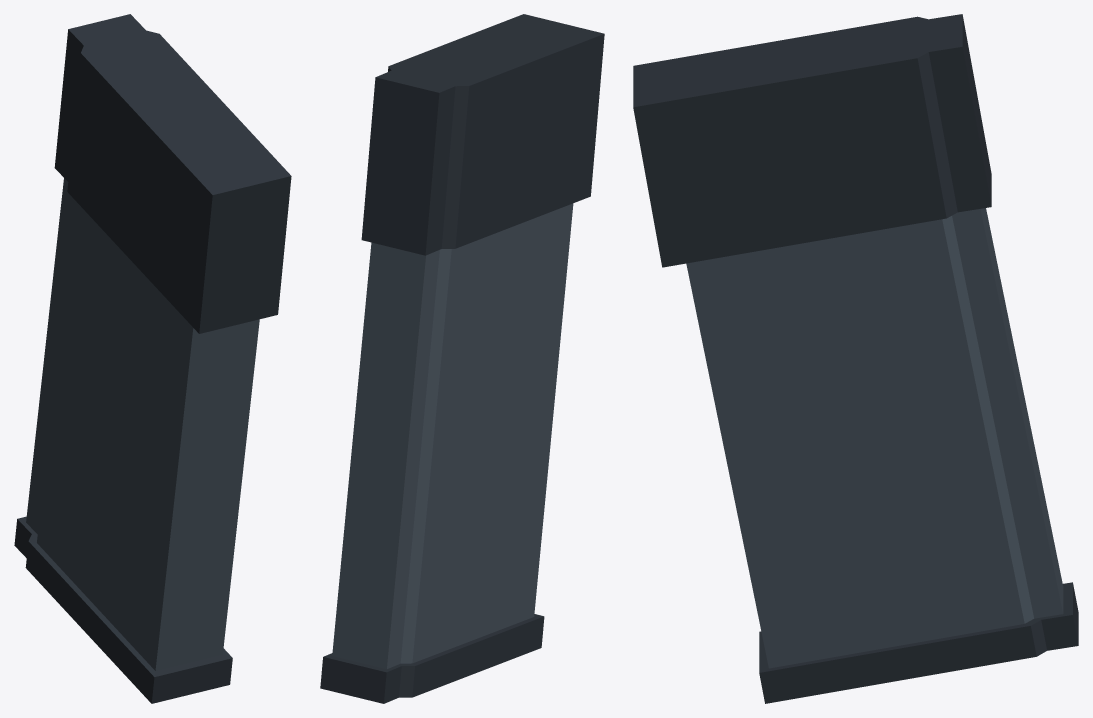
The model's file is carbine_magazine.glb.
The picture shows the model from 3 angles, left to right: view 1: azimuth 30°, elevation 25°; view 2: azimuth 150°, elevation 25°; view 3: azimuth 270°, elevation 25°; orthographic projection. The views are drawn at different scales.
Visible parts, largest first — view 1: carbine_magazine; view 2: carbine_magazine; view 3: carbine_magazine.
Boxes of the visible parts, left/top/right/bottom form: carbine_magazine: left=14, top=14, right=291, bottom=703; carbine_magazine: left=320, top=14, right=604, bottom=703; carbine_magazine: left=633, top=14, right=1078, bottom=703.
Size of the model in its own units: 0.0245 by 0.1801 by 0.1114.
